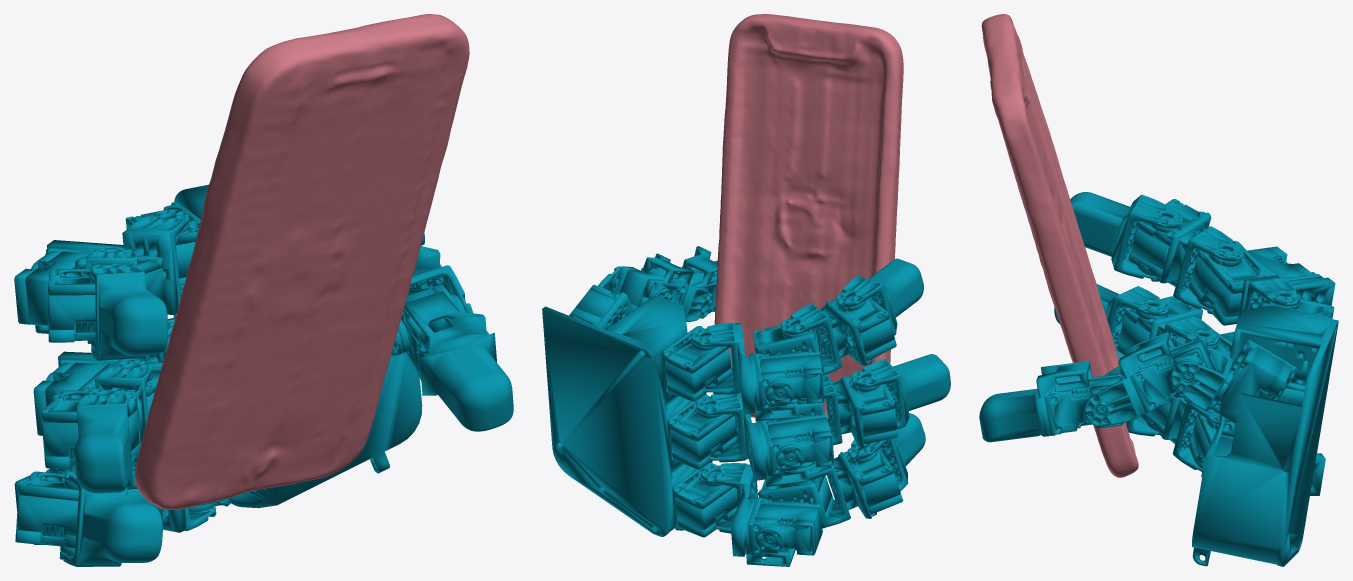
The picture shows the model from 3 angles, left to right: view 1: azimuth 30°, elevation 25°; view 2: azimuth 150°, elevation 25°; view 3: azimuth 270°, elevation 25°; orthographic projection. The views are drawn at different scales.
Parts seen in each view (by area): view 1: world; view 2: world; view 3: world.
Part boxes in pixels (bbox=[...]): world: bbox=[14, 14, 513, 566]; world: bbox=[542, 14, 950, 566]; world: bbox=[979, 14, 1338, 566].
Bounding box in the file's own units: 0.1966 × 0.2672 × 0.1765.
